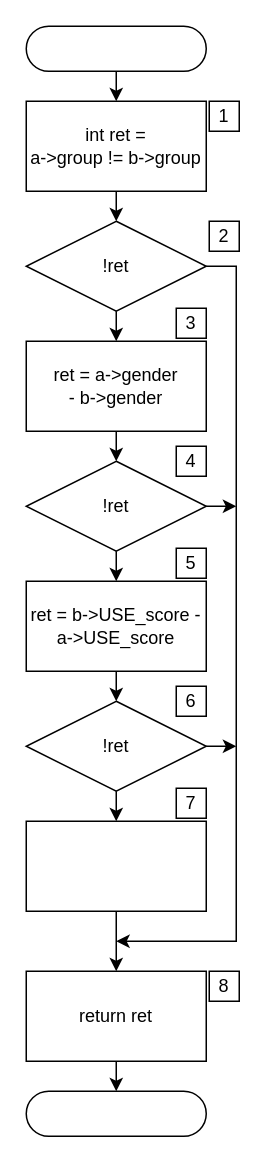
Some shapes in this 275 by 1163 pixel diagram are drawn without their labels. The box of each missing label's shape, as (x1, y1, x2, y2) in pixels:
ret = a->admission_date - b->admission_date: (25, 820, 206, 911)
конец: (25, 1090, 206, 1136)
начало list_process_cmp(a,b): (25, 25, 206, 71)
